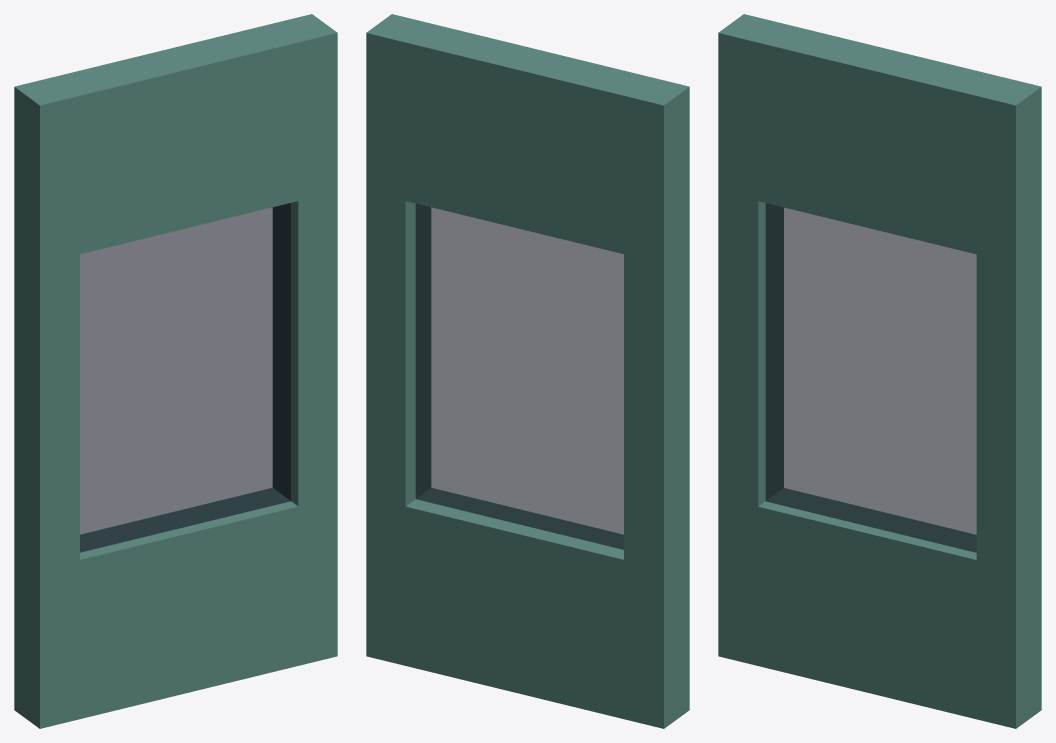
The model's file is GreenGreyWindow.glb.
3 views of the same model, side by side, from view 1: azimuth 30°, elevation 25°; view 2: azimuth 150°, elevation 25°; view 3: azimuth 330°, elevation 25° (orthographic).
Parts seen in each view (by area): view 1: wall_greenGrey_window; view 2: wall_greenGrey_window; view 3: wall_greenGrey_window.
Boxes of the visible parts, box(x1,y1,x2,y2) form: wall_greenGrey_window: box(14, 14, 337, 728); wall_greenGrey_window: box(366, 14, 689, 728); wall_greenGrey_window: box(718, 14, 1041, 728).
Size of what is drawn, in the model's own units: 2 by 4 by 0.3.
2 materials, 2 textured.
